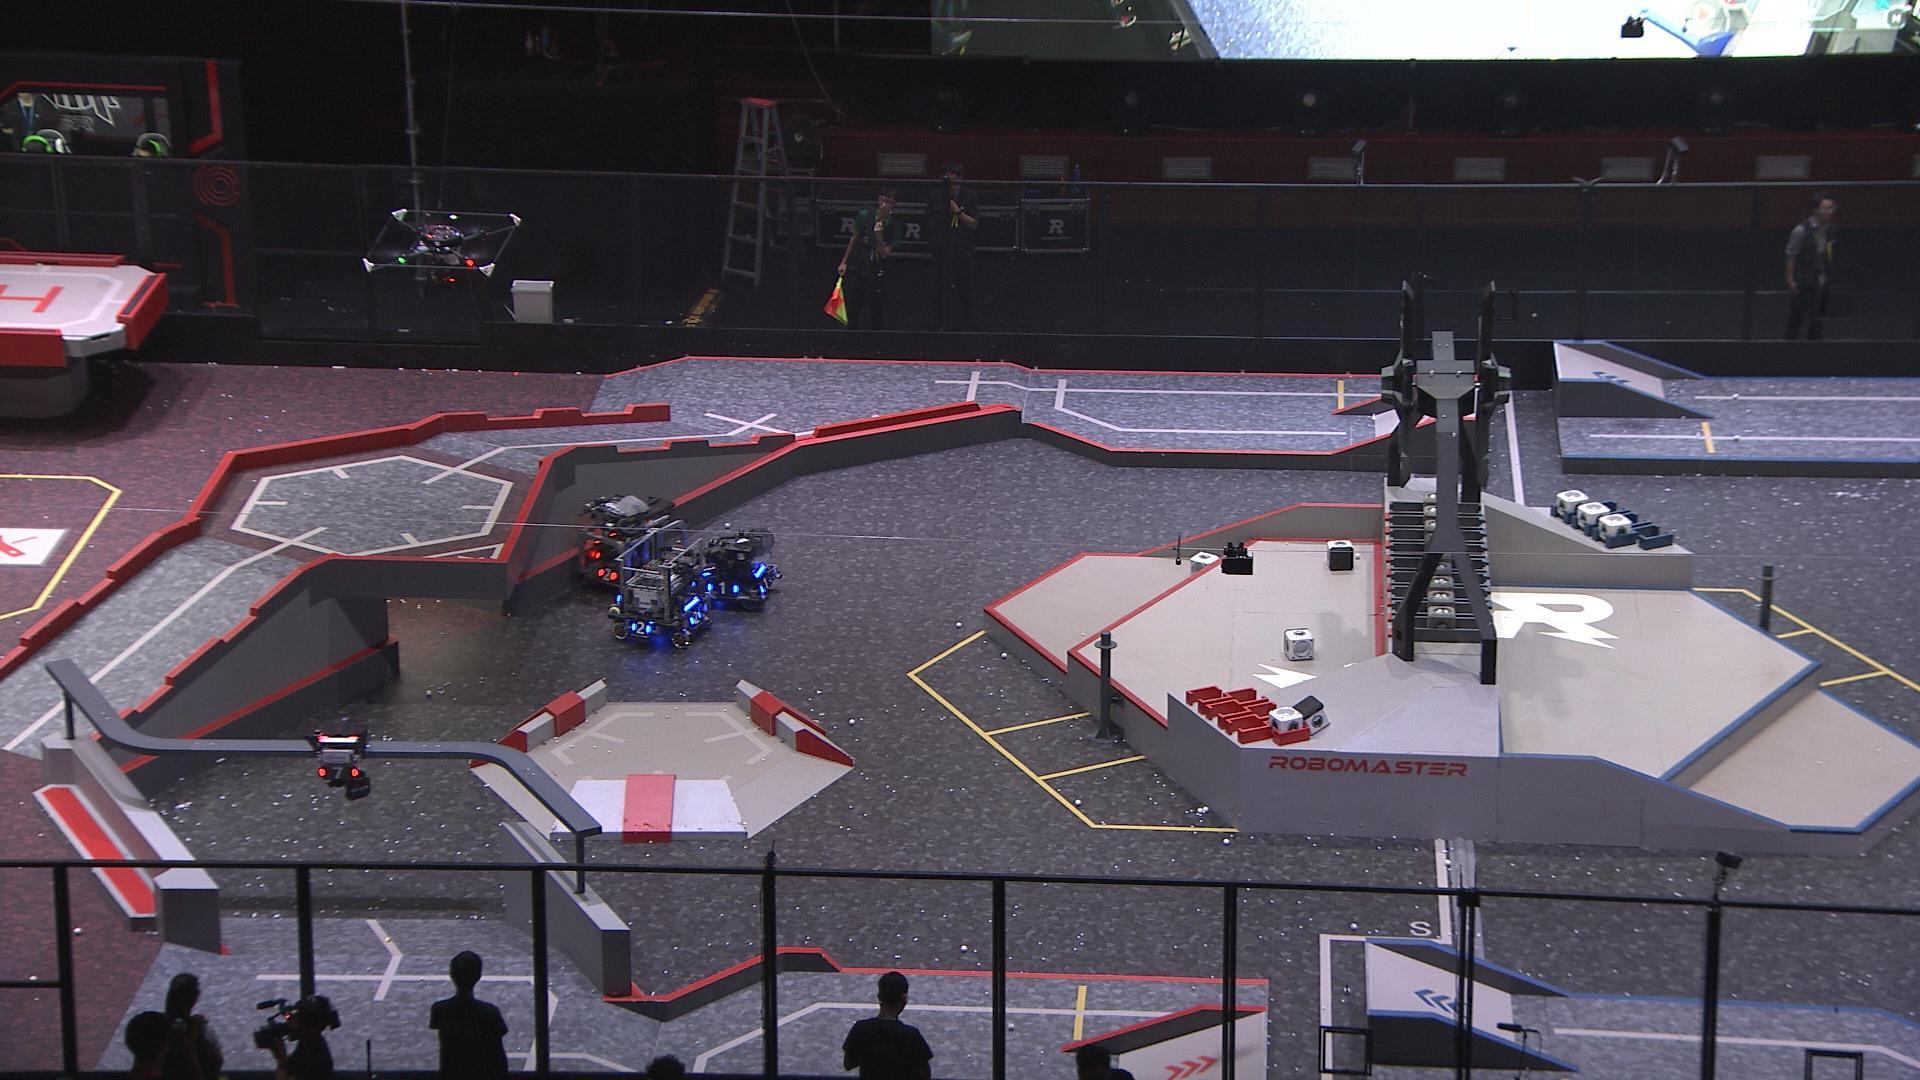armor: (316, 764, 361, 781), (705, 582, 742, 597), (595, 564, 618, 584), (629, 618, 651, 636), (686, 608, 704, 626), (760, 575, 773, 597), (702, 564, 716, 580)
car: (605, 520, 712, 647), (574, 493, 676, 585), (690, 527, 782, 612)
watcher: (309, 717, 373, 799)
